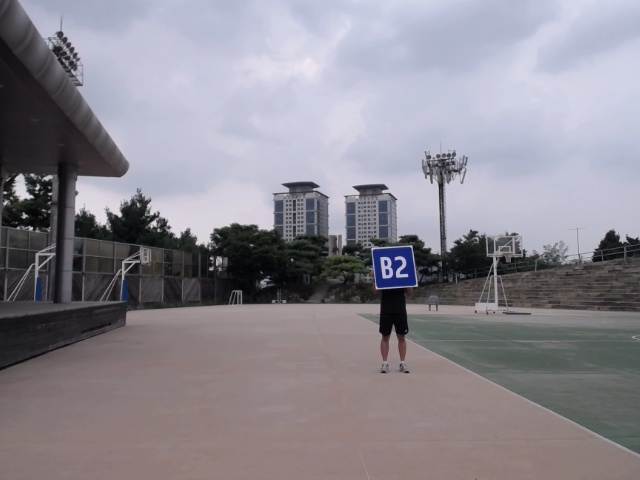delivery_b2: (371, 246, 420, 291)
